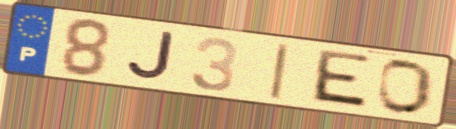3: (190, 36, 240, 92)
8: (58, 17, 115, 80)
E: (306, 48, 374, 112)
I: (267, 41, 292, 103)
J: (124, 29, 177, 83)
O: (375, 58, 437, 117)
